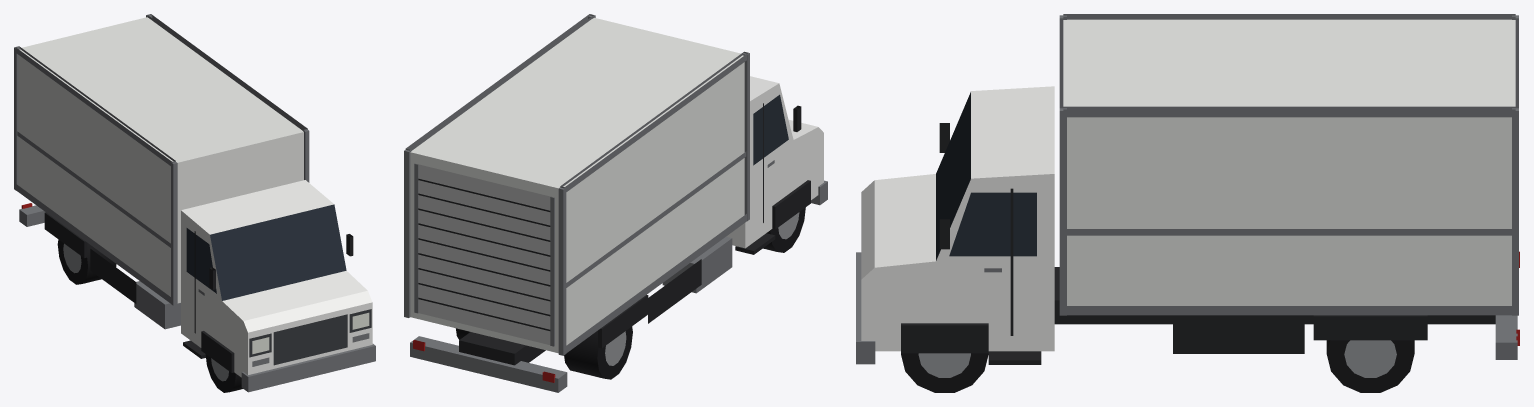
The model's file is box_truck.glb.
The picture shows the model from 3 angles, left to right: view 1: azimuth 30°, elevation 25°; view 2: azimuth 150°, elevation 25°; view 3: azimuth 270°, elevation 25°; orthographic projection. The views are drawn at different scales.
Visible parts, largest first — view 1: box_truck; view 2: box_truck; view 3: box_truck.
Boxes of the visible parts, bbox=[...] form: box_truck: bbox=[14, 14, 375, 392]; box_truck: bbox=[404, 14, 827, 392]; box_truck: bbox=[856, 14, 1519, 392].
Bounding box in the file's own units: 2.66 × 3.63 × 7.56.
Materials: 1 (1 with a texture image).
